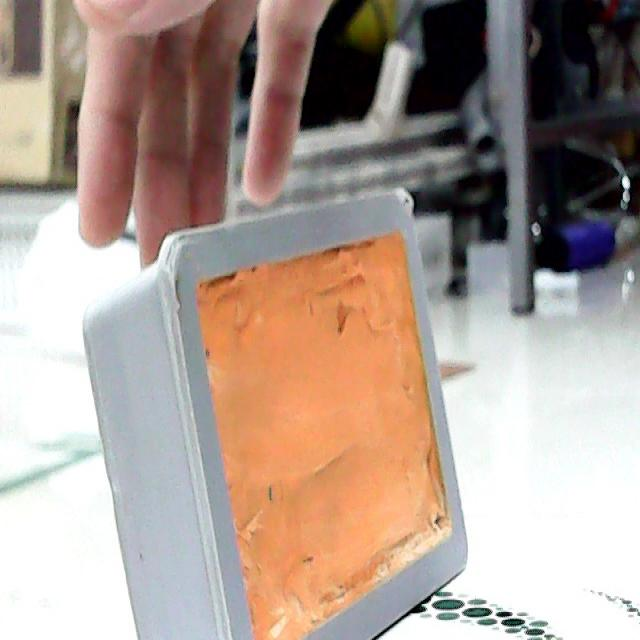block: (91, 186, 470, 640)
